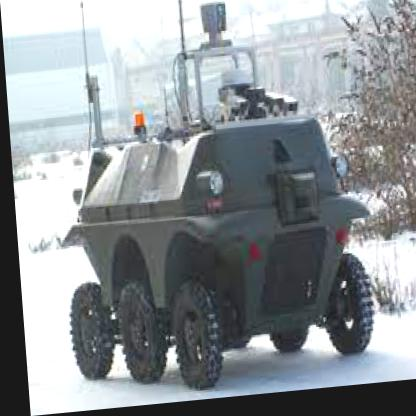UGV: (51, 116, 372, 403)
